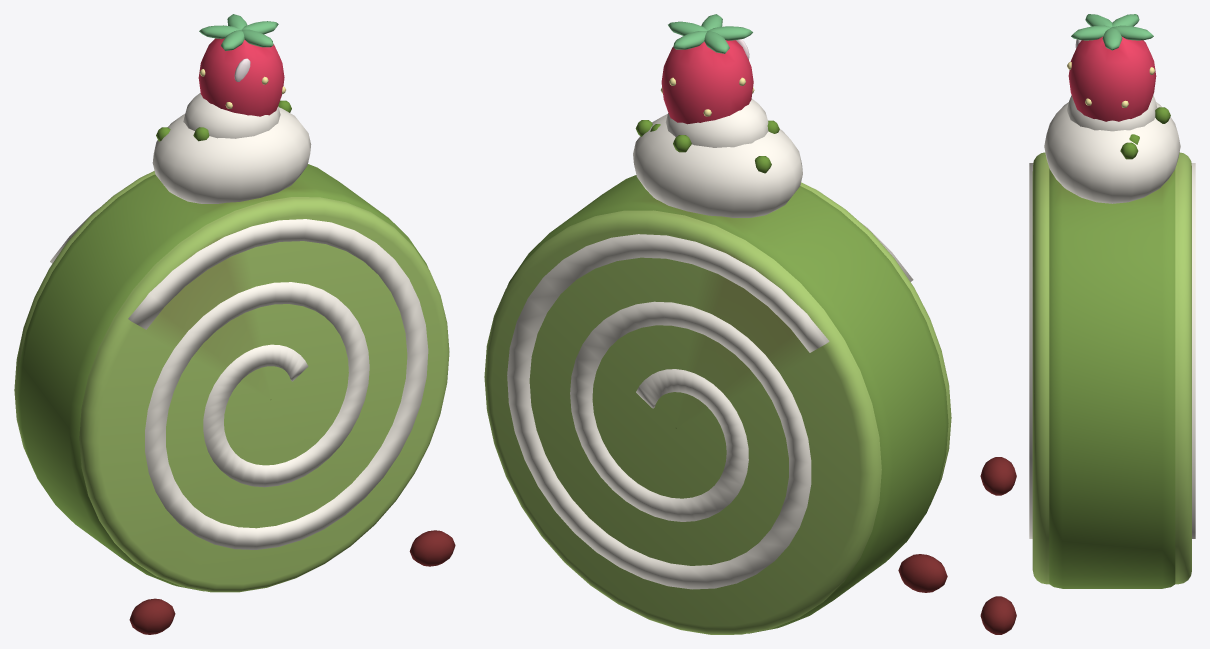
File: matcharoll.glb
The picture shows the model from 3 angles, left to right: view 1: azimuth 30°, elevation 25°; view 2: azimuth 150°, elevation 25°; view 3: azimuth 270°, elevation 25°; orthographic projection. The views are drawn at different scales.
Visible parts, largest first — view 1: sponge, cfffaf0, skin, berry_body, g7a2b2b, c7cc68a; view 2: sponge, cfffaf0, skin, berry_body, c7cc68a, g7a2b2b, c6f9a3a; view 3: skin, sponge, cfffaf0, berry_body, g7a2b2b, c7cc68a, c6f9a3a.
Part boxes in pixels (left/top/right/bottom): sponge: left=14, top=171, right=449, bottom=592; cfffaf0: left=50, top=93, right=428, bottom=549; skin: left=17, top=164, right=428, bottom=591; berry_body: left=198, top=38, right=284, bottom=116; g7a2b2b: left=129, top=530, right=455, bottom=634; c7cc68a: left=199, top=14, right=278, bottom=51; sponge: left=484, top=182, right=951, bottom=634; cfffaf0: left=507, top=99, right=913, bottom=589; skin: left=507, top=175, right=948, bottom=633; berry_body: left=661, top=40, right=753, bottom=124; c7cc68a: left=668, top=14, right=752, bottom=53; g7a2b2b: left=898, top=554, right=947, bottom=592; c6f9a3a: left=635, top=120, right=779, bottom=173; skin: left=1049, top=168, right=1175, bottom=588; sponge: left=1032, top=152, right=1191, bottom=584; cfffaf0: left=1029, top=95, right=1195, bottom=538; berry_body: left=1068, top=36, right=1156, bottom=121; g7a2b2b: left=980, top=457, right=1016, bottom=634; c7cc68a: left=1071, top=14, right=1153, bottom=50; c6f9a3a: left=1120, top=107, right=1170, bottom=159.
Bounding box in the file's own units: 0.388 × 0.5315 × 0.189.
